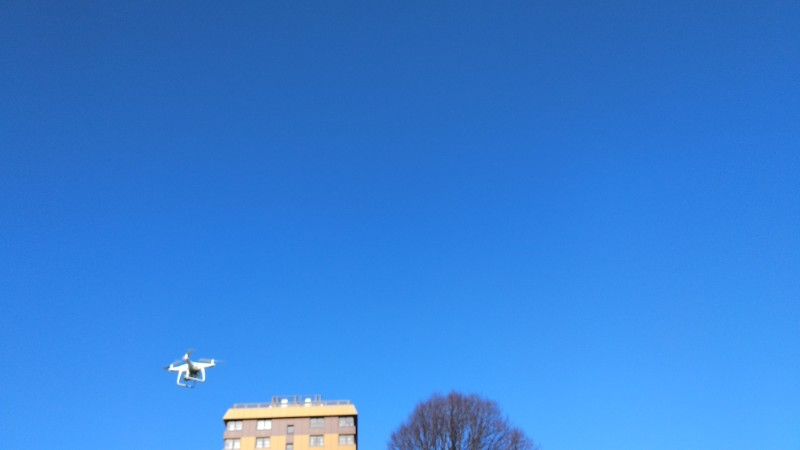drone: (160, 346, 221, 389)
